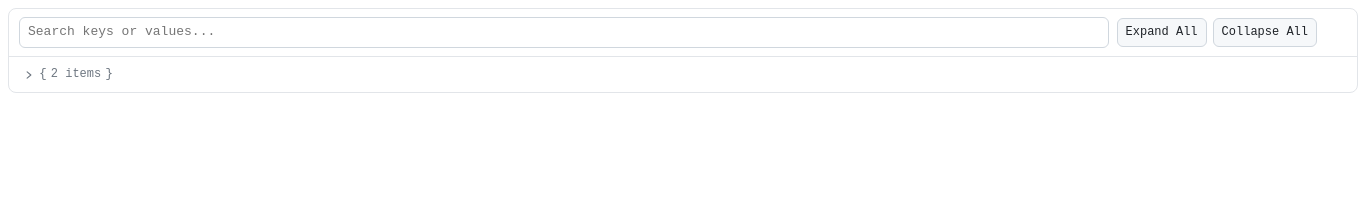
Scenario: JsonViewer - search › finds a match by key name and shows a match count
Type "email" into the search field with placeholder "Search keys or values...".
click(564, 32); type("email")  # box left=19, top=17, right=1109, bottom=48
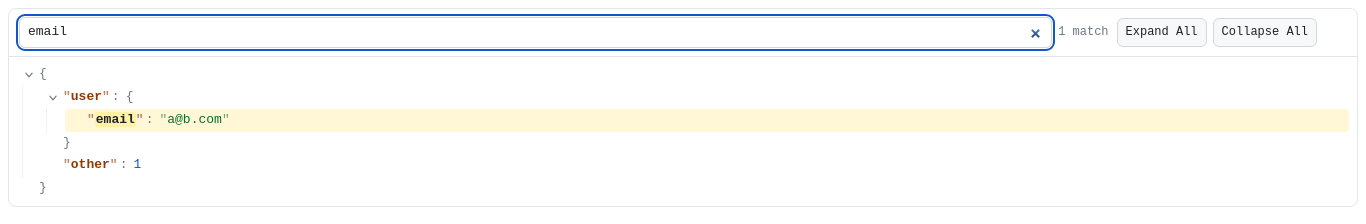
Result: the text "1 match" is shown at left=1058, top=23, right=1108, bottom=42
Result: the text "email" is shown at left=95, top=112, right=136, bottom=127
